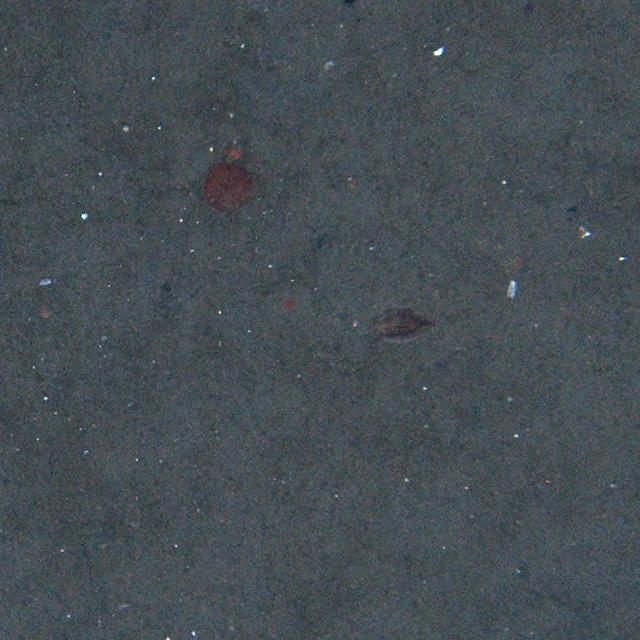flatfish: (362, 308, 443, 349)
